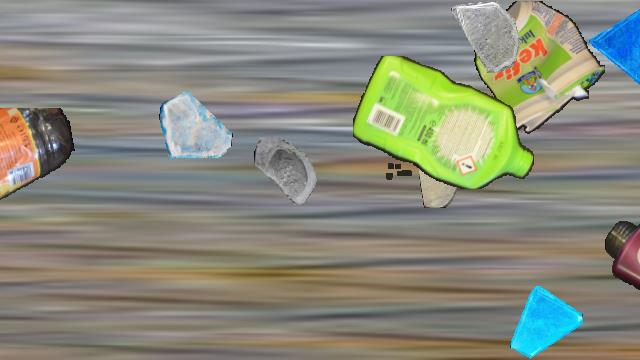glass: (253, 137, 329, 213), (159, 88, 233, 162), (508, 285, 582, 359), (451, 1, 523, 73), (589, 1, 640, 91)
plastic: (353, 56, 535, 188), (473, 1, 605, 139), (0, 108, 77, 248), (604, 221, 640, 359)
wood: (419, 134, 457, 208)
